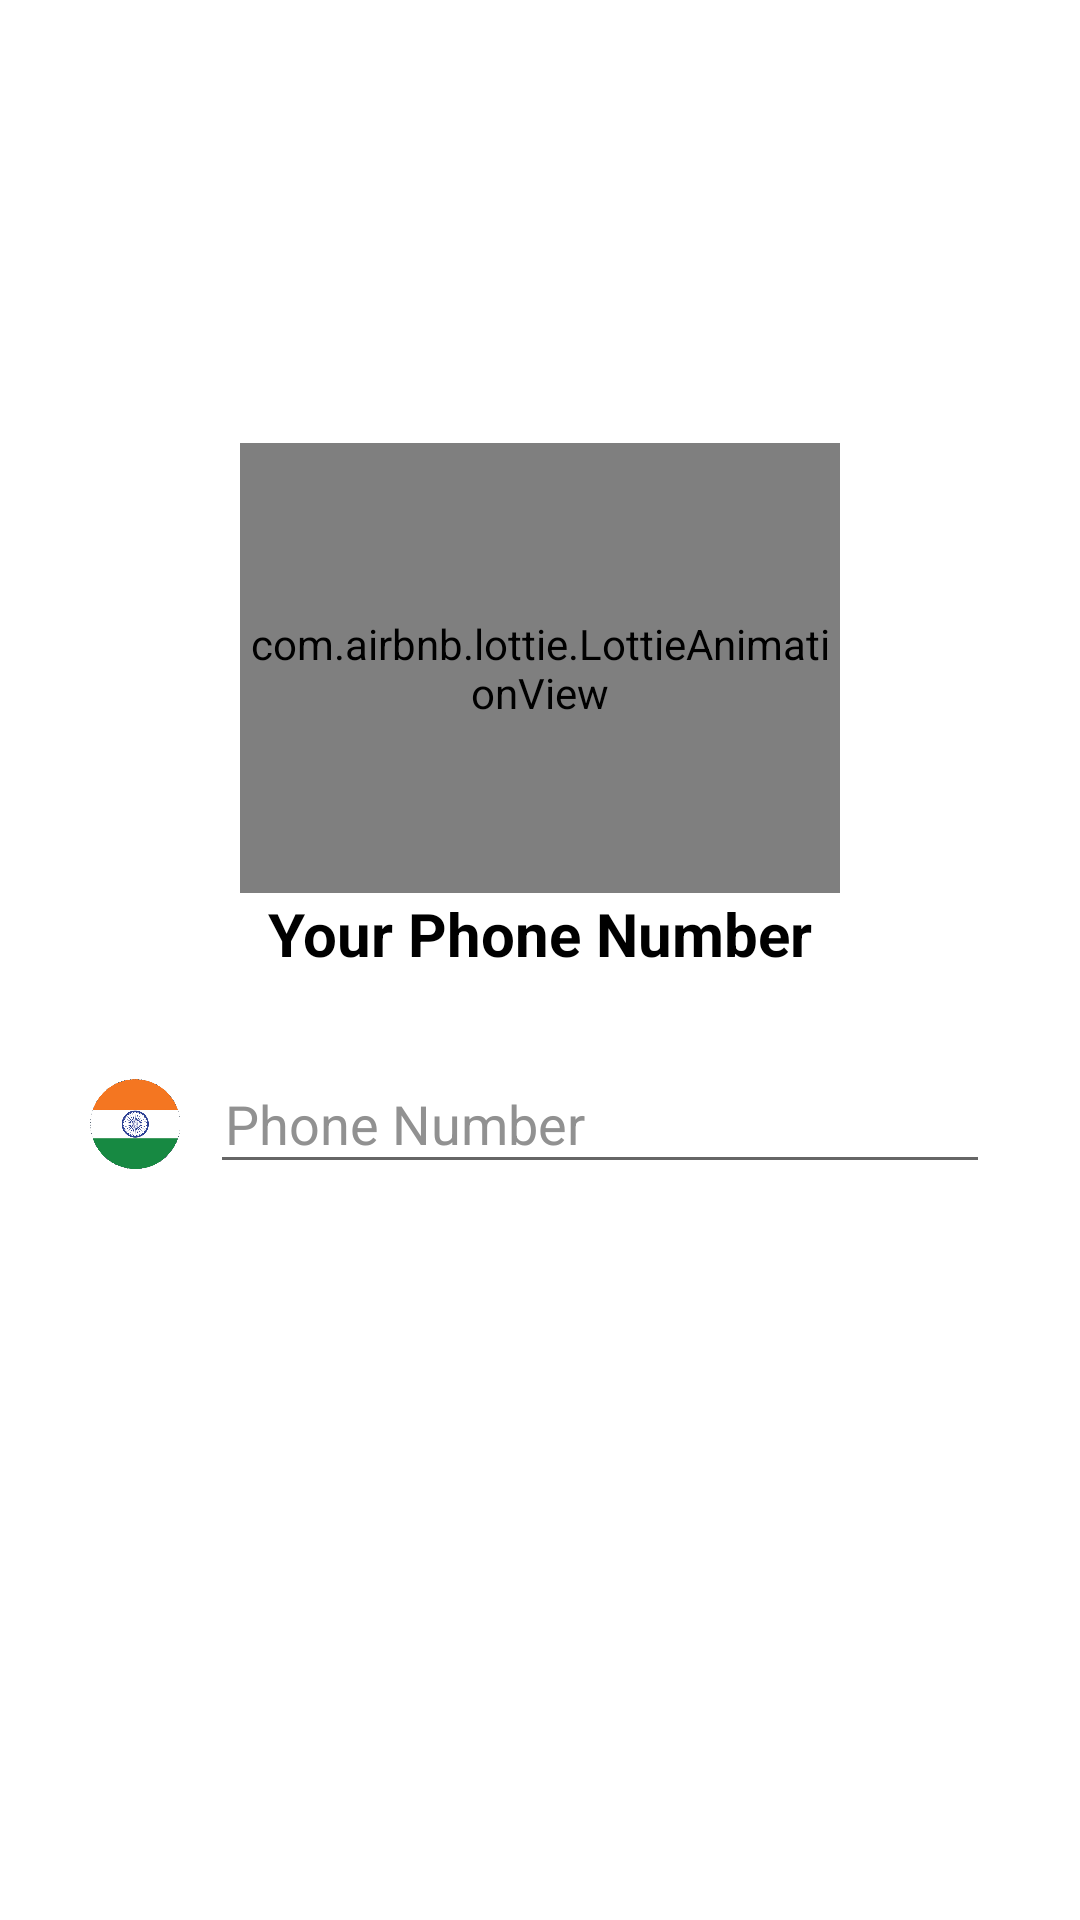

Icons on this 1080 × 1920 Android screen, each with its box as (x1, y1, x2, y2):
india flag: (90, 1079, 180, 1169)
